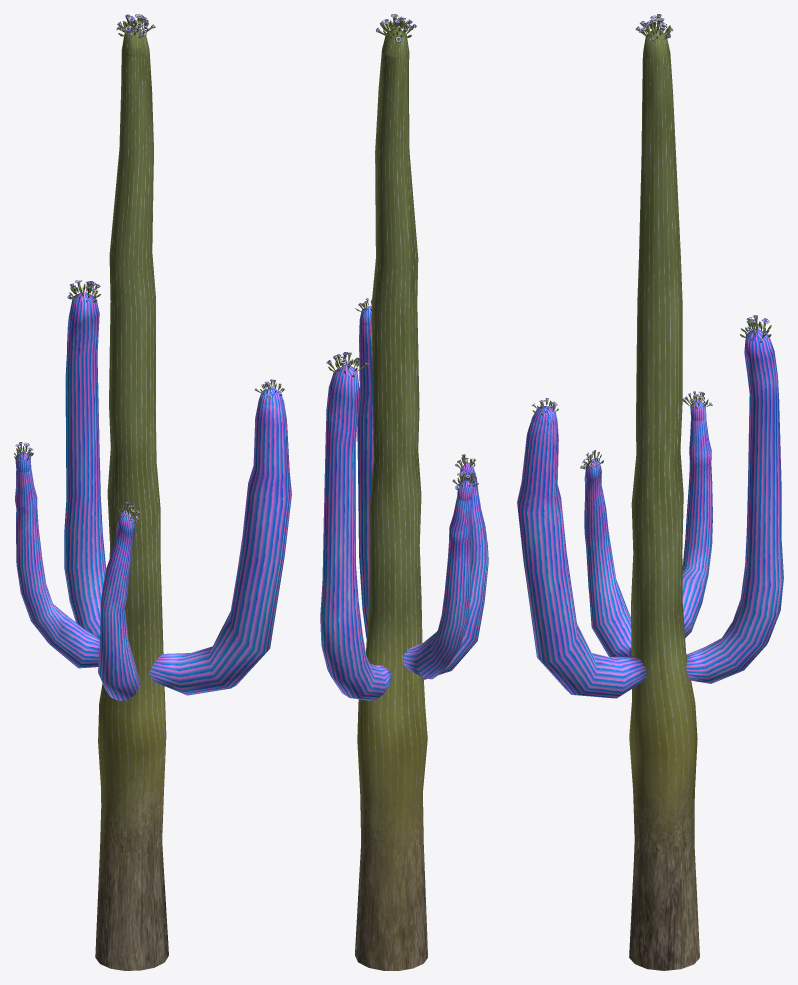
File: cacti3v2.obj
3 renders of one model, left to right at view 1: azimuth 30°, elevation 25°; view 2: azimuth 150°, elevation 25°; view 3: azimuth 270°, elevation 25°, orthographic.
Parts seen in each view (by area): view 1: cacti3v2; view 2: cacti3v2; view 3: cacti3v2.
Part boxes in pixels (box(x1,y1,x2,y2)): cacti3v2: box(14, 14, 291, 970); cacti3v2: box(320, 14, 488, 970); cacti3v2: box(517, 14, 783, 970).
Bounding box in the file's own units: 1.81 × 8.32 × 2.15.
Materials: 6 (6 with a texture image).
